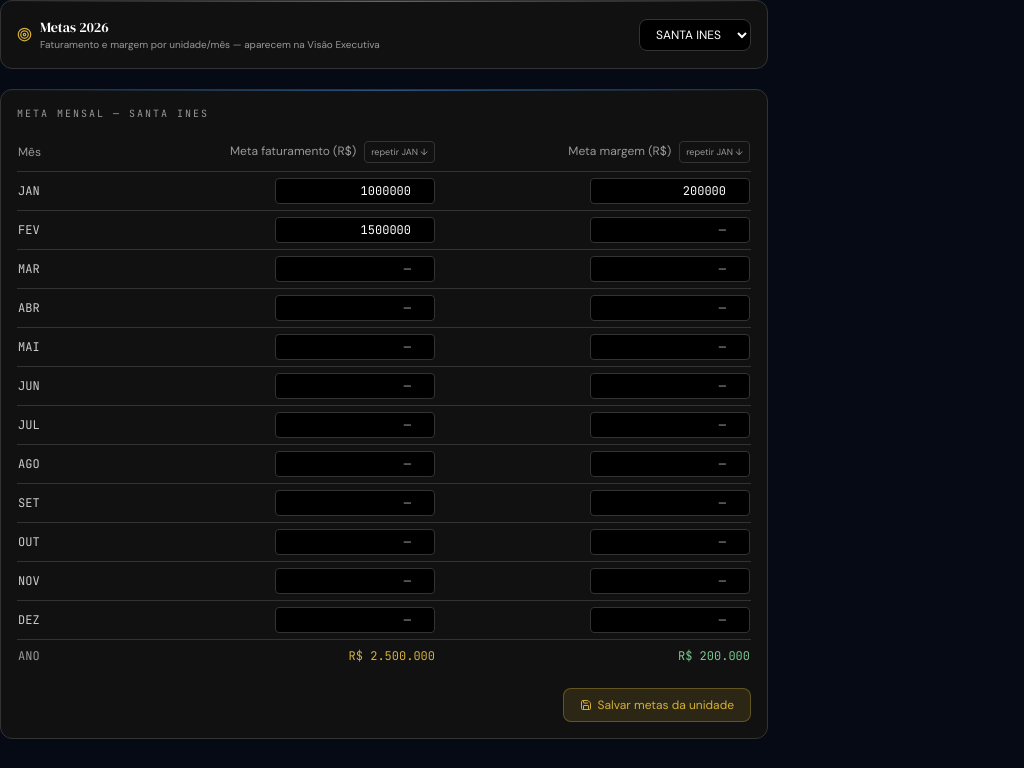
Test: MetasPage › "repetir JAN" copia o valor de janeiro para os 12 meses da coluna
What coordinates should you click on to do the following:
click the button titled "Copiar o valor de JAN para todos os meses" next to "Meta faturamento (R$)"
I would click on:
 (400, 152)
Its box is 364,141 -> 435,163.
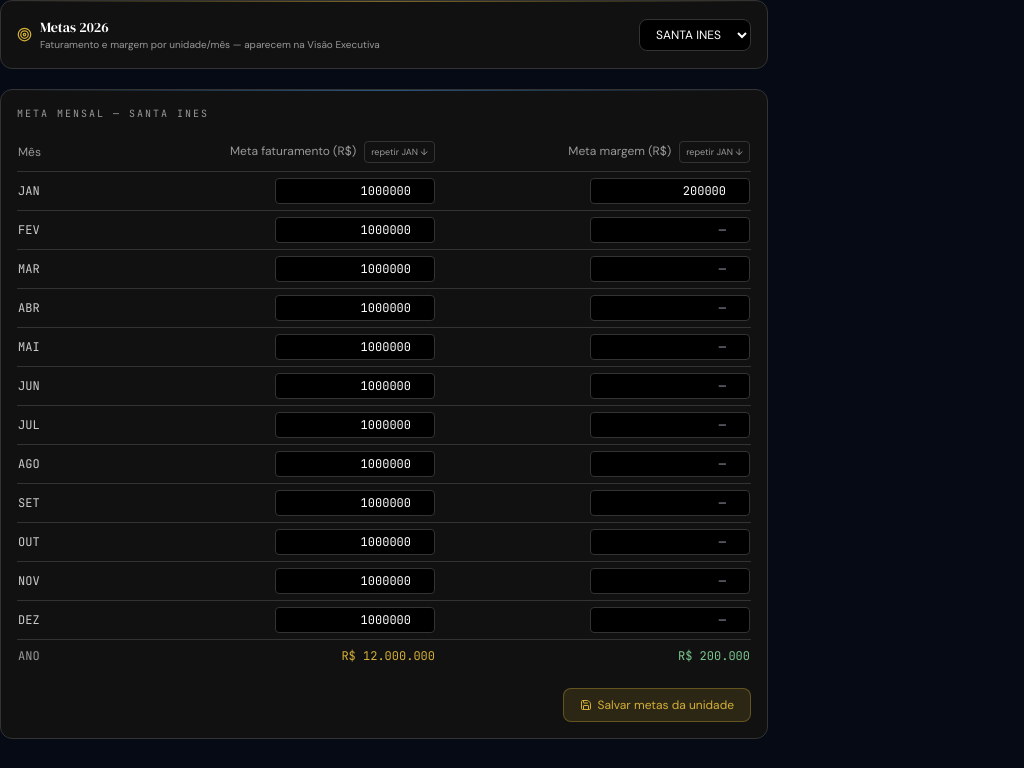
Expected: the number field named "Meta de margem de DEZ" is empty, 590,607 -> 750,633
Expected: the number field named "Meta de faturamento de DEZ" holds "1000000", 275,607 -> 435,633
